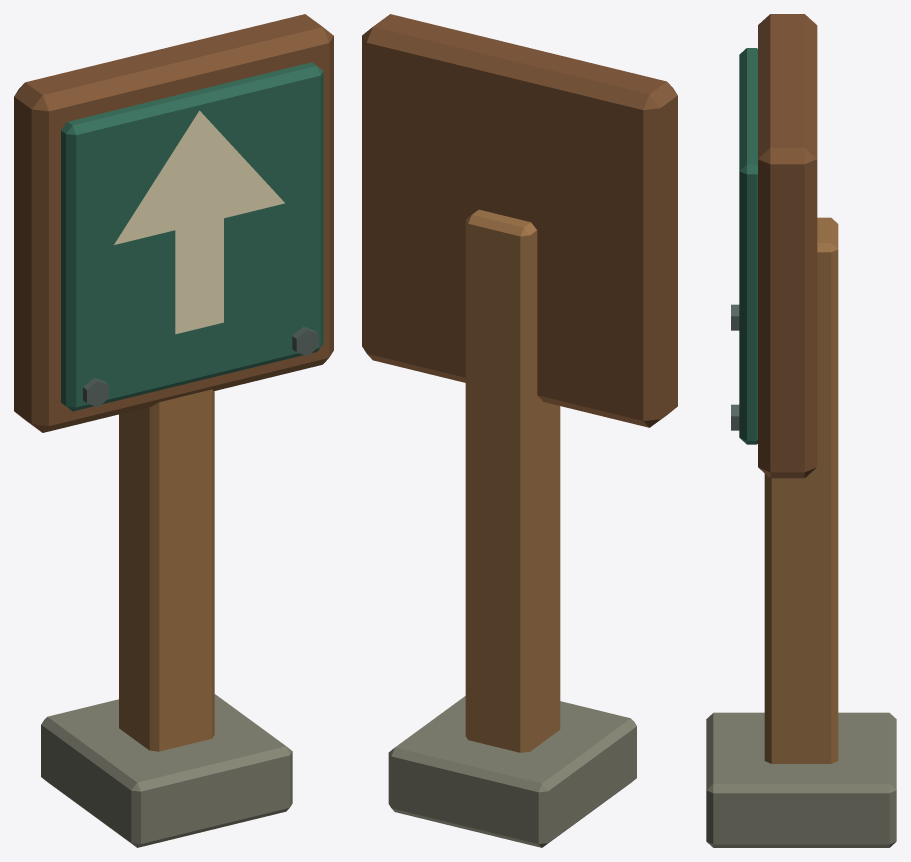
File: w10b-first-ring-ahead.glb
The picture shows the model from 3 angles, left to right: view 1: azimuth 30°, elevation 25°; view 2: azimuth 150°, elevation 25°; view 3: azimuth 270°, elevation 25°; orthographic projection. The views are drawn at different scales.
Parts seen in each view (by area): view 1: Inset green tablet, Carved tablet, Timber finial post, Cairn socket, Ahead arrow, Cut iron peg.001, Cut iron peg; view 2: Carved tablet, Timber finial post, Cairn socket; view 3: Carved tablet, Timber finial post, Cairn socket, Inset green tablet.
Boxes of the visible parts, <box> form: Inset green tablet: <box>61,62,323,411</box>; Carved tablet: <box>14,14,333,432</box>; Timber finial post: <box>119,389,214,751</box>; Cairn socket: <box>41,694,292,847</box>; Ahead arrow: <box>114,110,284,334</box>; Cut iron peg.001: <box>292,326,318,356</box>; Cut iron peg: <box>83,378,108,407</box>; Carved tablet: <box>362,14,677,427</box>; Timber finial post: <box>465,209,560,752</box>; Cairn socket: <box>388,696,636,847</box>; Carved tablet: <box>758,14,817,478</box>; Timber finial post: <box>764,217,838,763</box>; Cairn socket: <box>706,712,896,847</box>; Inset green tablet: <box>739,48,757,444</box>.
Bounding box in the file's own units: 0.88 × 2.08 × 0.49.
